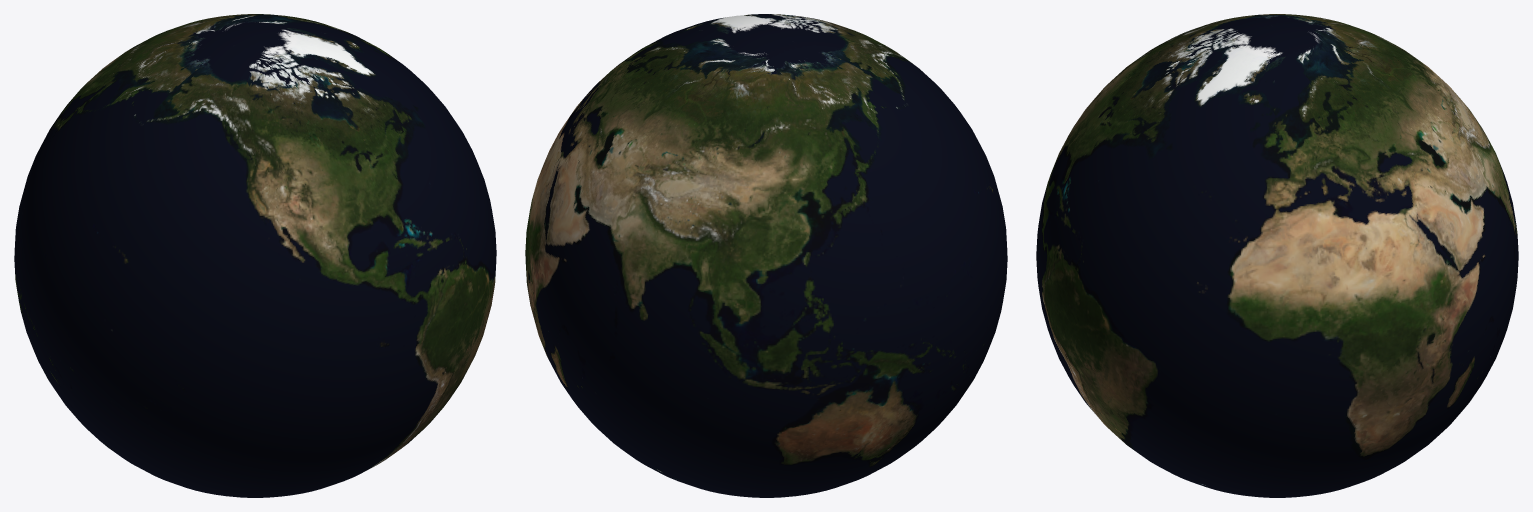
The model's file is GlobeCountries.dae.
The picture shows the model from 3 angles, left to right: view 1: azimuth 30°, elevation 25°; view 2: azimuth 150°, elevation 25°; view 3: azimuth 270°, elevation 25°; orthographic projection.
Visible parts, largest first — view 1: Sphere; view 2: Sphere; view 3: Sphere.
Part boxes in pixels (<box>): Sphere: <box>14,14,496,497</box>; Sphere: <box>525,14,1007,497</box>; Sphere: <box>1036,14,1518,497</box>.
Bounding box in the file's own units: 1.98 × 1.98 × 2.
